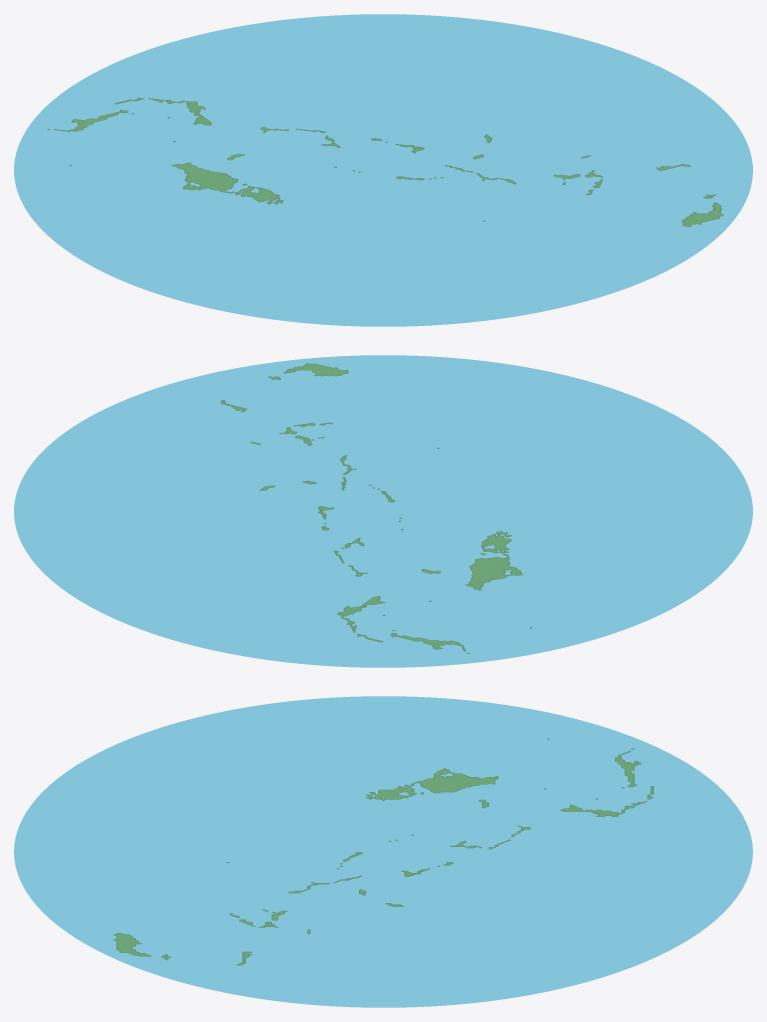
Rendered from BHS-terrain.glb.
3 renders of one model, top to bottom at view 1: azimuth 30°, elevation 25°; view 2: azimuth 150°, elevation 25°; view 3: azimuth 270°, elevation 25°, orthographic.
Visible parts, largest first — view 1: Relevo com hidrografia; view 2: Relevo com hidrografia; view 3: Relevo com hidrografia.
Part boxes in pixels (box(x1,y1,x2,y2)): Relevo com hidrografia: box(14, 14, 752, 326); Relevo com hidrografia: box(14, 355, 752, 667); Relevo com hidrografia: box(14, 696, 752, 1007).
Bounding box in the file's own units: 2.11 × 0.00234 × 2.12.
2 materials, 1 textured.
